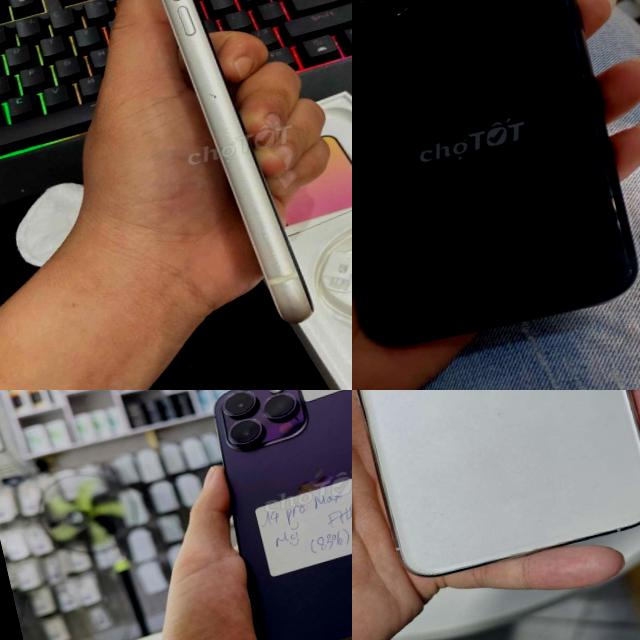gen_11: (352, 0, 640, 379), (352, 390, 640, 596), (161, 0, 311, 322)
gen_14: (194, 390, 352, 640)
scratch: (512, 0, 640, 290), (426, 0, 542, 20), (197, 80, 240, 118)
